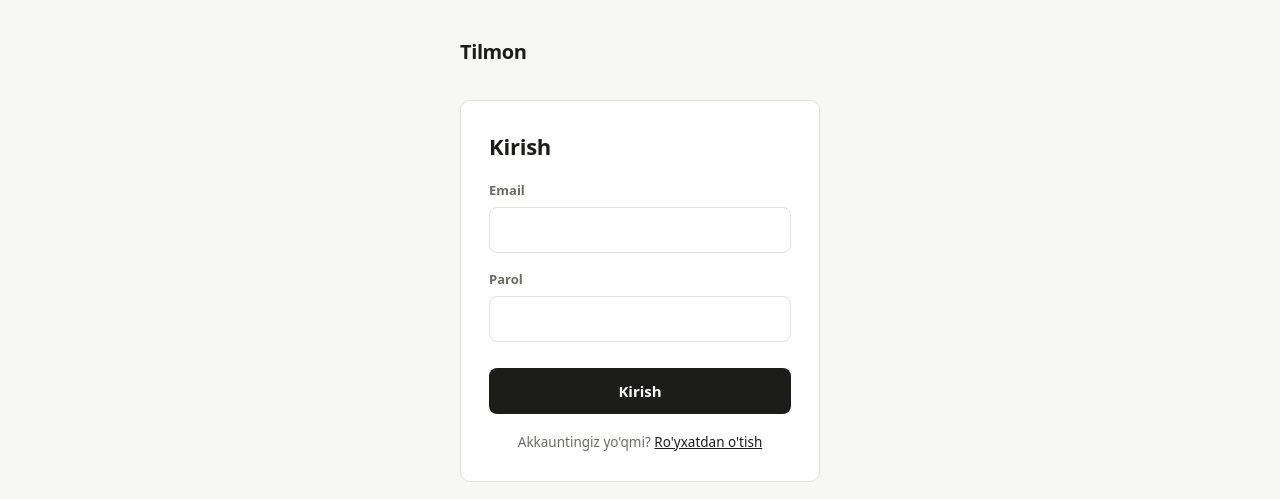
Scenario: kirish › to'g'ri ma'lumot bilan ilovaga o'tadi
Type "a@b.uz" into the field labelled "Email" at (640, 230), box [489,207,791,253]
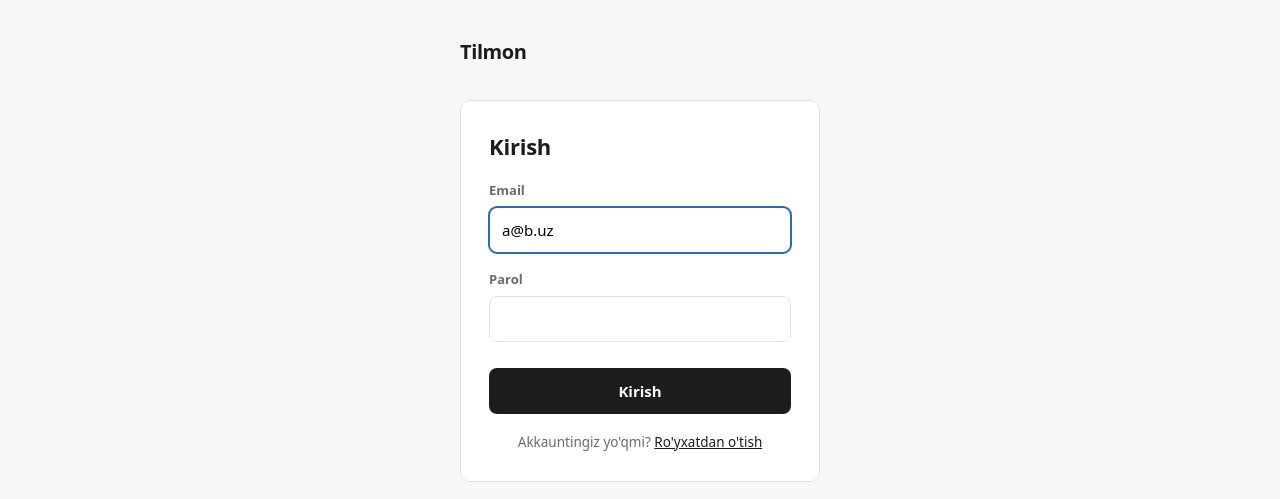
Type "Bluzka-6106-trikotaj" into the password field labelled "Parol" at (640, 319), box [489,296,791,342]
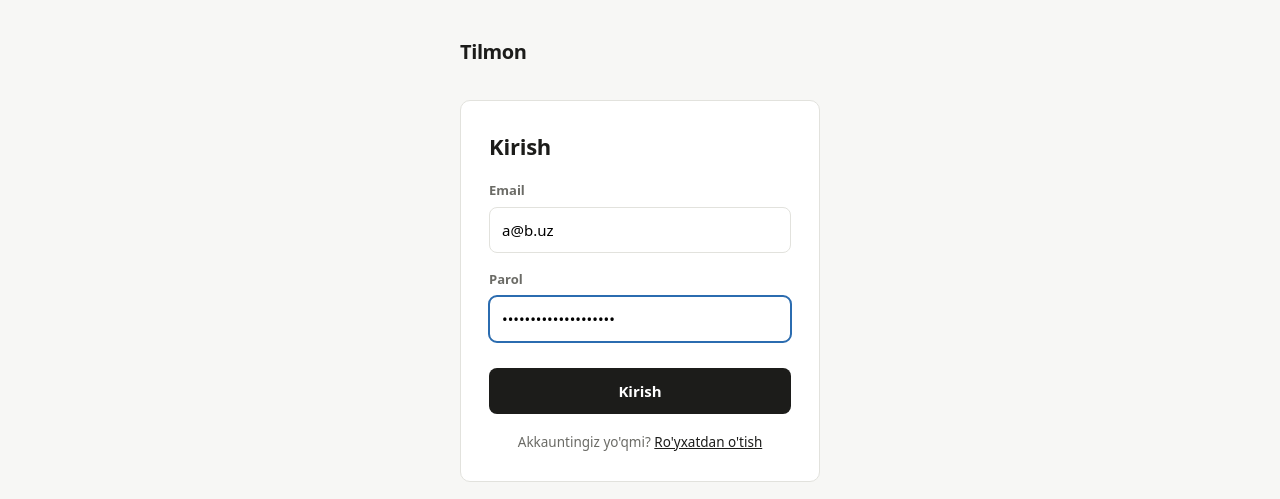
Click the button "Kirish" at (640, 391), box [489,368,791,414]
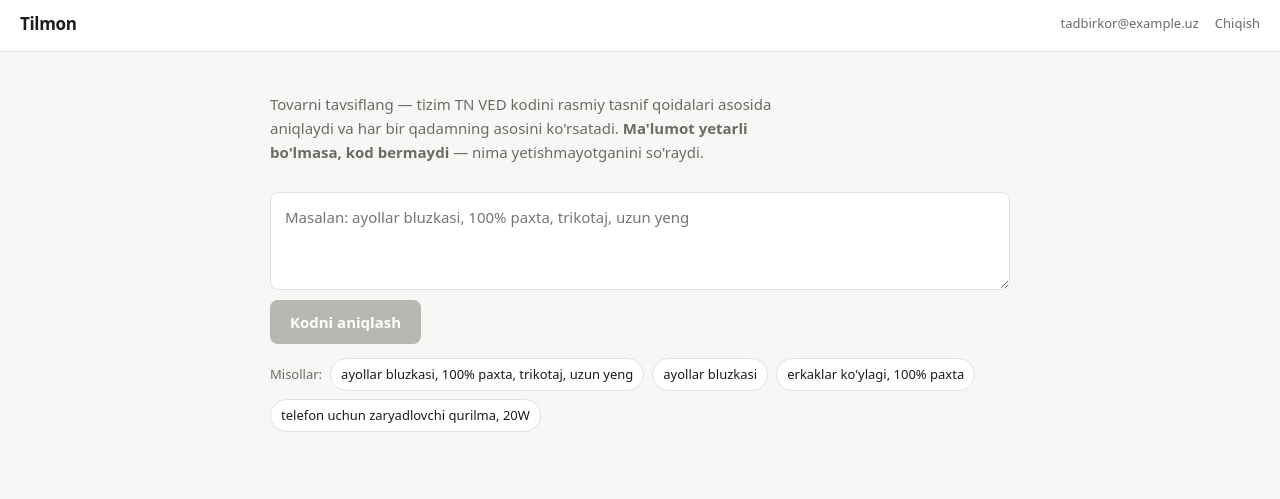
Expected: the form with test id "classify-form" is shown, [270,192,1010,344]
